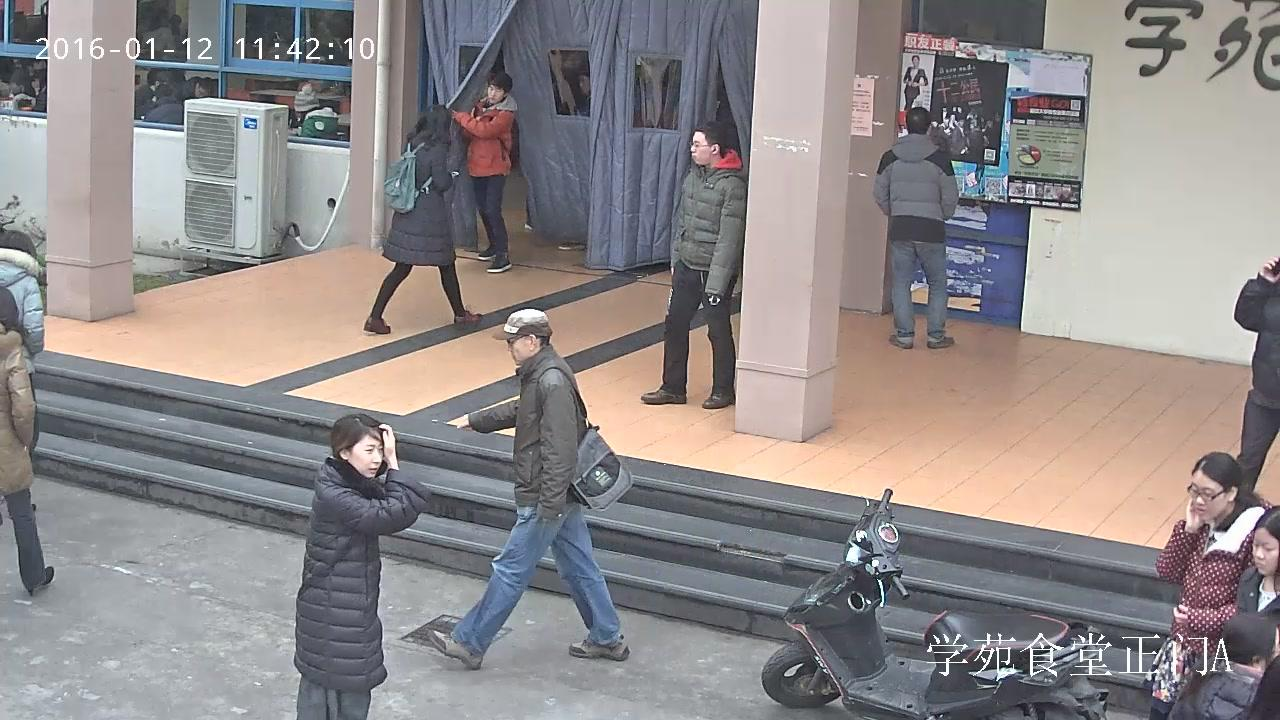person: (426, 309, 633, 670), (292, 413, 431, 720), (1145, 452, 1275, 719), (640, 120, 746, 410), (363, 104, 482, 335), (872, 106, 956, 350), (0, 286, 54, 596), (449, 72, 517, 272), (0, 229, 45, 524), (1165, 611, 1280, 720), (1233, 253, 1280, 506), (1231, 505, 1280, 616), (290, 82, 341, 140), (143, 85, 183, 124), (902, 56, 928, 113), (181, 75, 215, 102)
